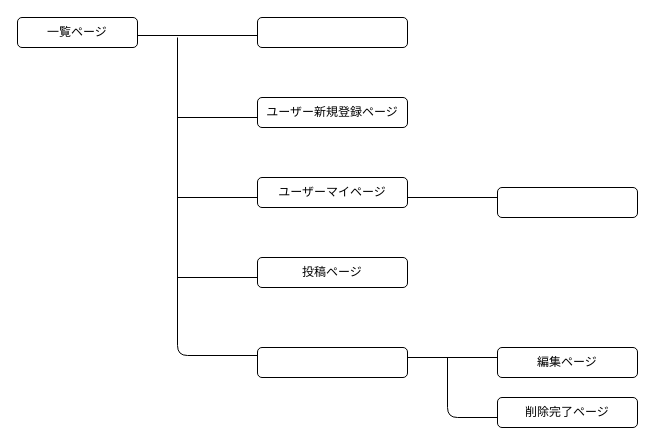
This 655x445 diagram has some shape labels left out. Each missing label, with the box of its shape:
お気に入り一覧ページ: (496, 186, 638, 218)
ユーザーログインページ: (256, 16, 408, 48)
詳細ページ: (256, 346, 408, 378)
